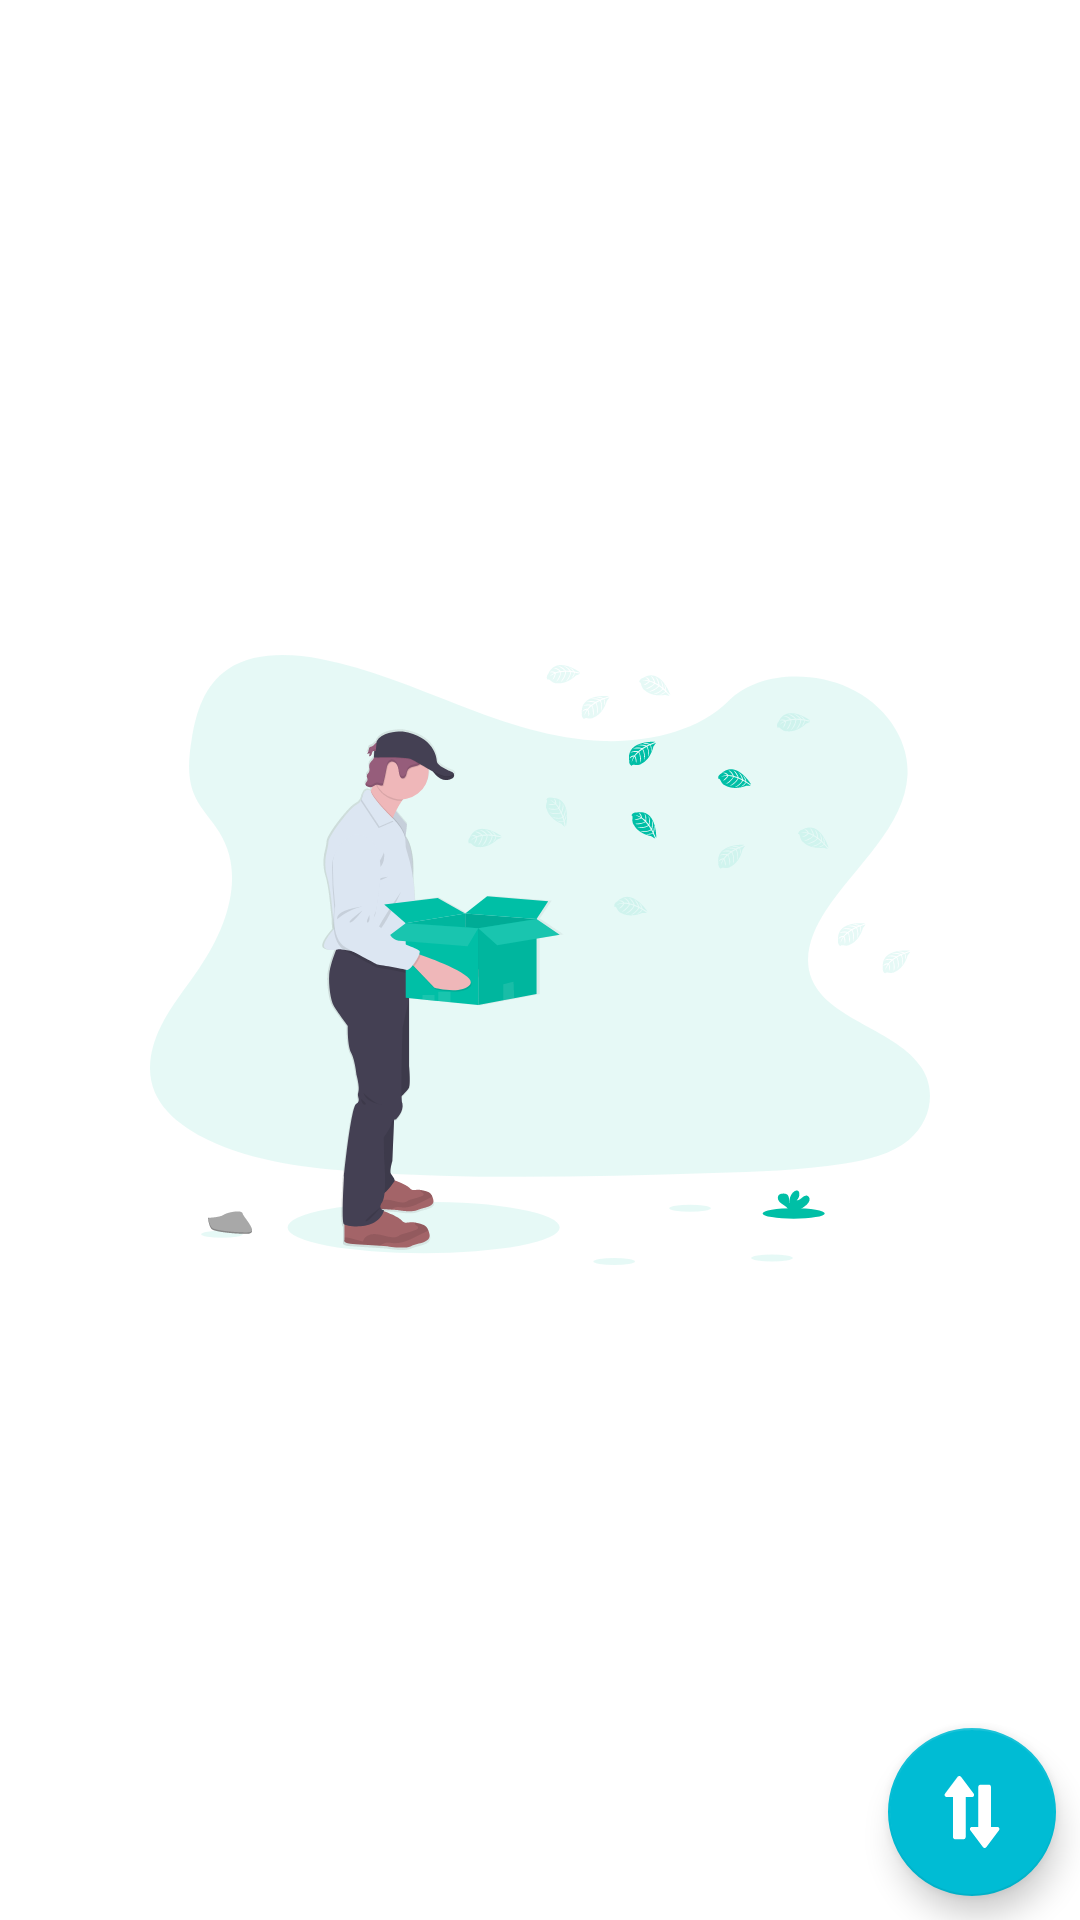

Icon click points for this 1080w x 1920h phone screenshot, format (x,y):
sort: (972,1812)
